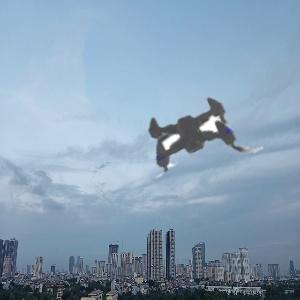drone: (82, 30, 291, 239)
